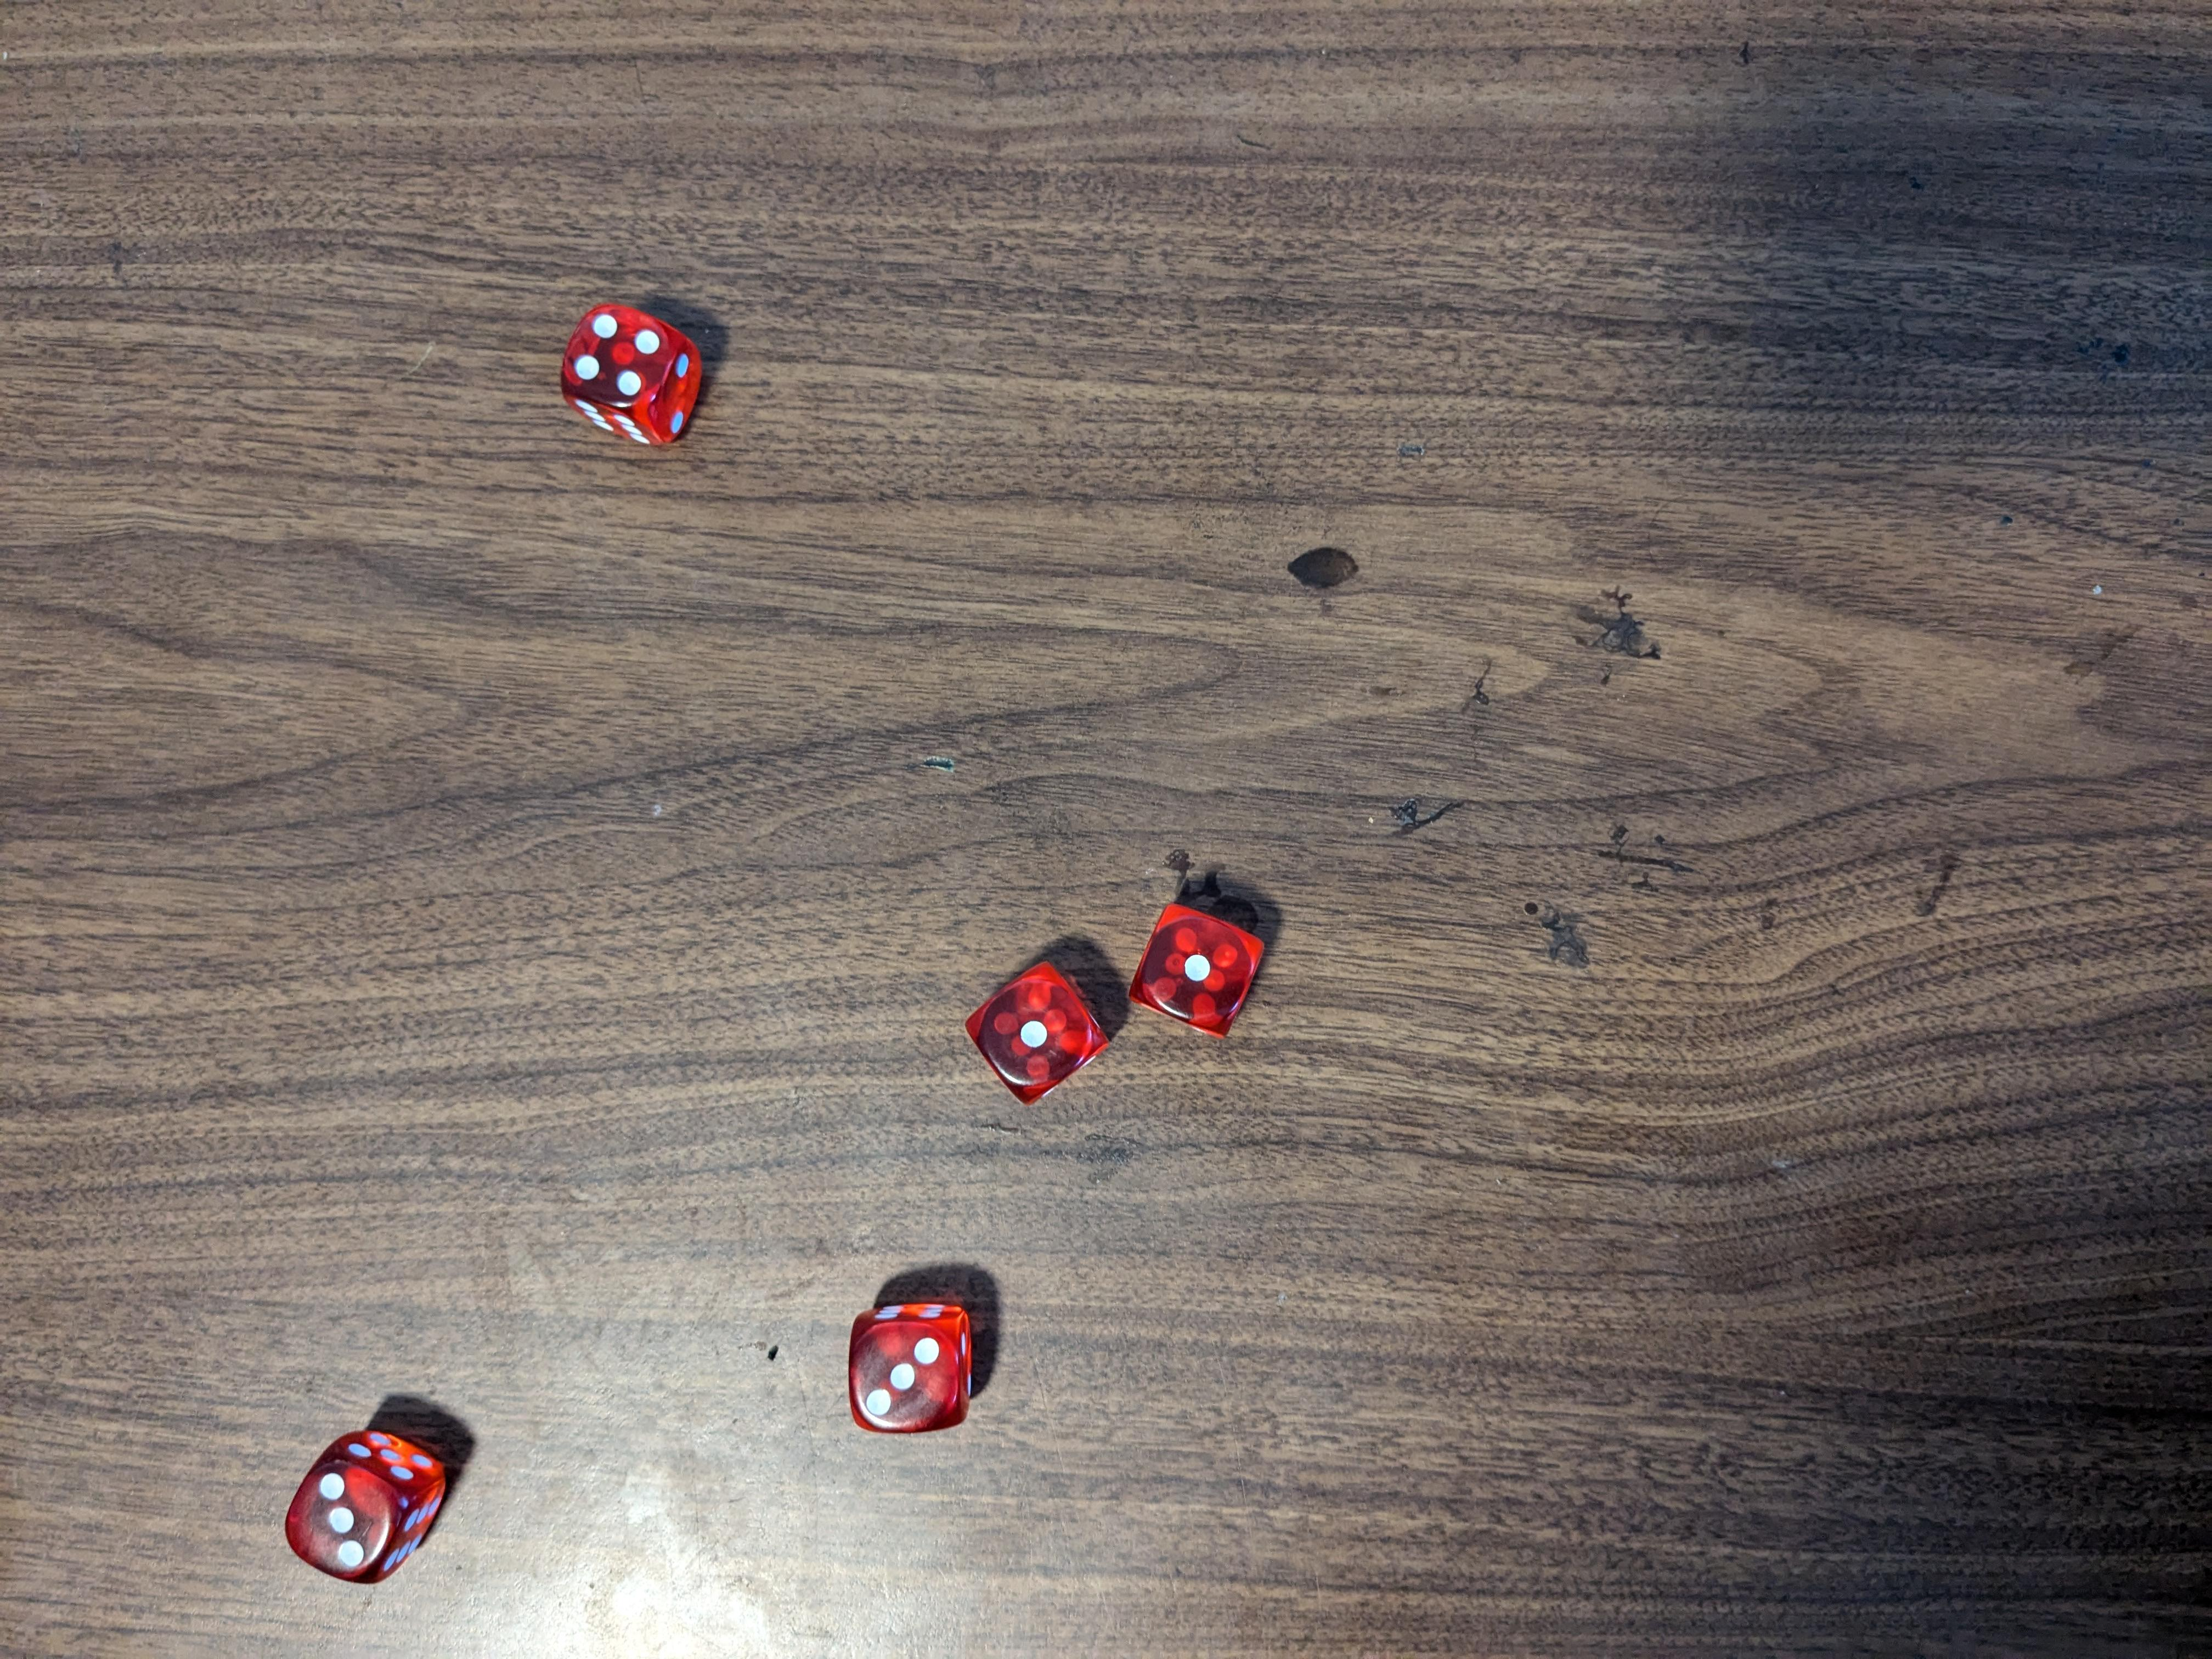four: (557, 298, 704, 439)
one: (967, 960, 1108, 1108), (1134, 901, 1270, 1037)
three: (287, 1431, 444, 1586), (845, 1298, 981, 1439)
